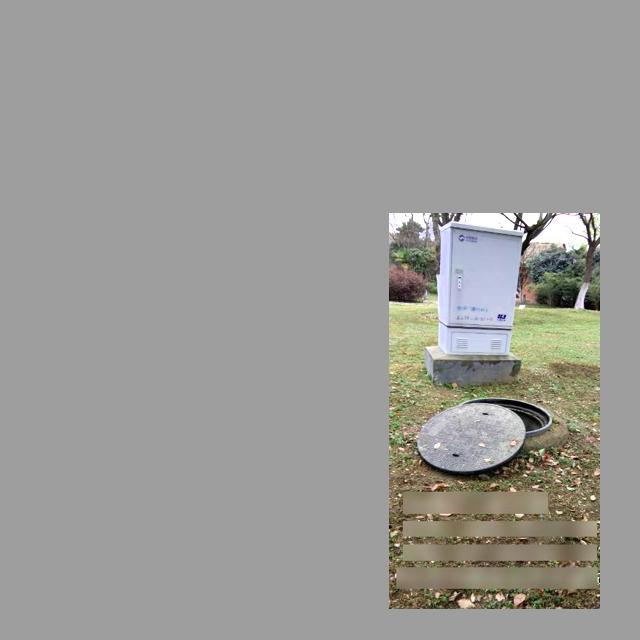uncovered: (417, 396, 553, 470)
